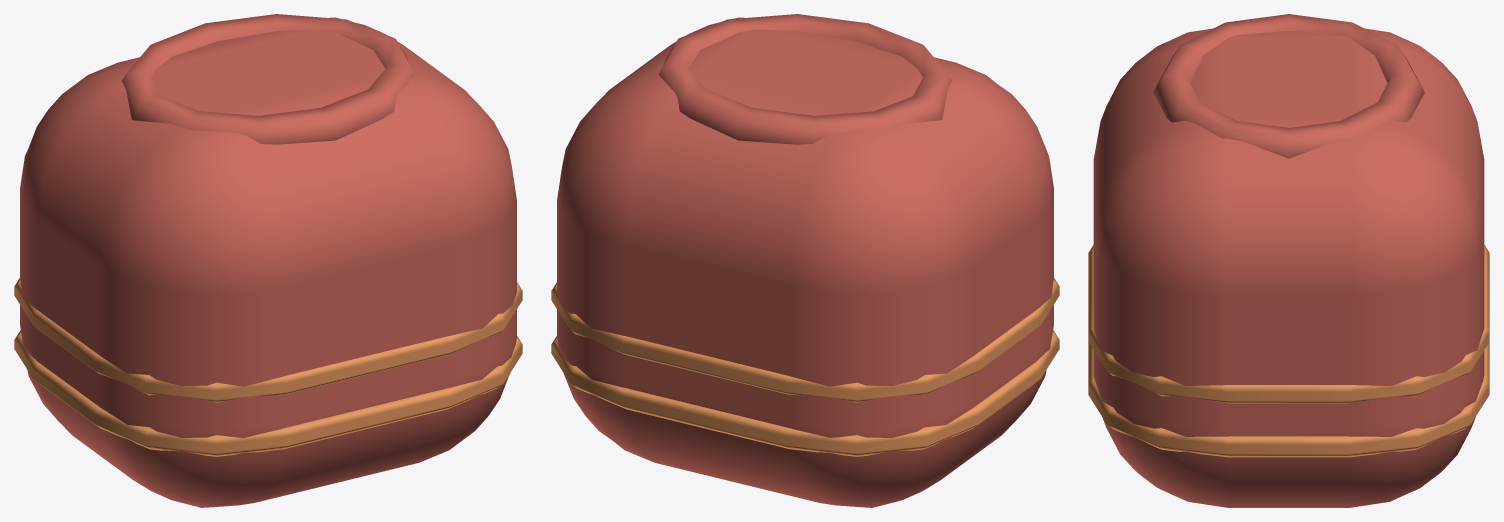
The model's file is paradise_planning_tank_top.glb.
The picture shows the model from 3 angles, left to right: view 1: azimuth 30°, elevation 25°; view 2: azimuth 150°, elevation 25°; view 3: azimuth 270°, elevation 25°; orthographic projection.
Parts seen in each view (by area): view 1: paradise_planning_tank_top_Body; view 2: paradise_planning_tank_top_Body; view 3: paradise_planning_tank_top_Body.
Boxes of the visible parts, <box> form: paradise_planning_tank_top_Body: <box>14,14,522,507</box>; paradise_planning_tank_top_Body: <box>551,14,1059,507</box>; paradise_planning_tank_top_Body: <box>1088,14,1489,507</box>.
Size of the model in its own units: 0.348 by 0.3119 by 0.298.
